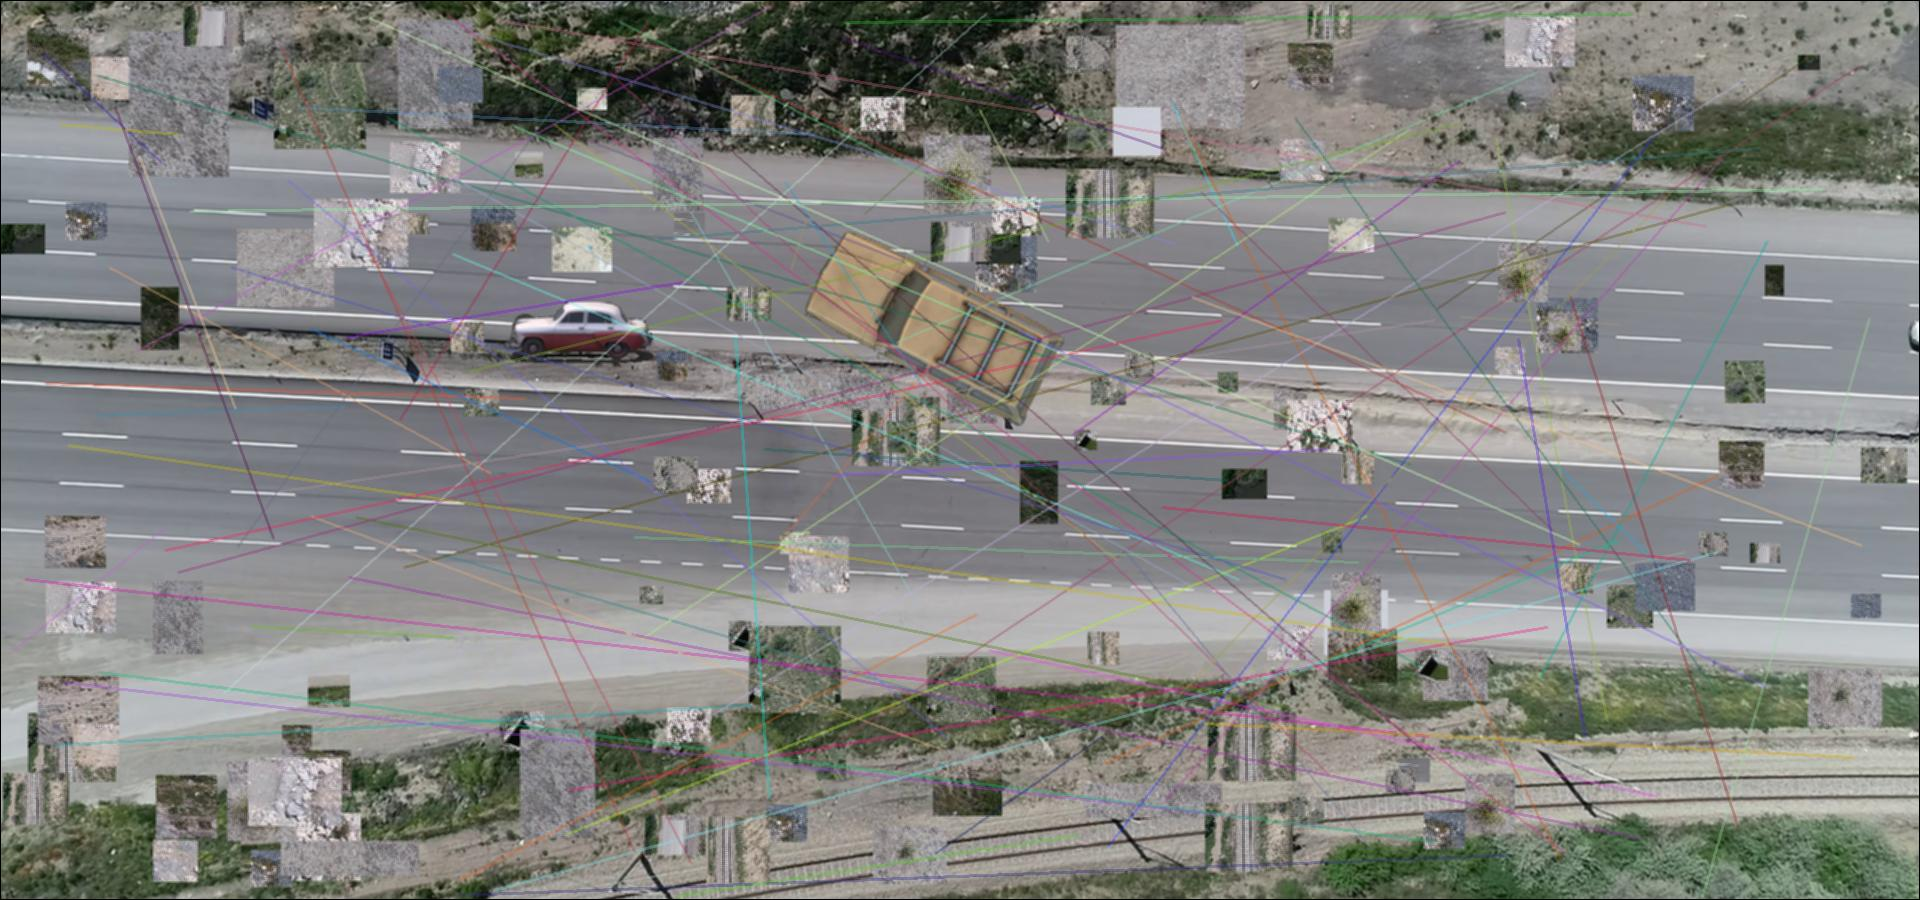arac: (801, 220, 1064, 431), (509, 302, 654, 366)
